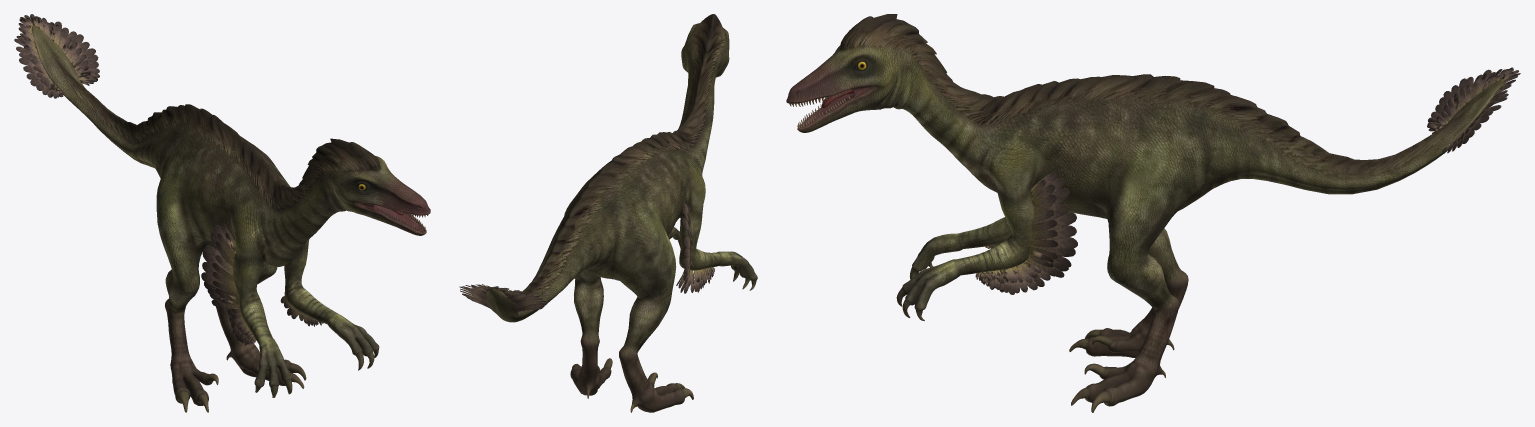
The model's file is troodon.glb.
3 renders of one model, left to right at view 1: azimuth 30°, elevation 25°; view 2: azimuth 150°, elevation 25°; view 3: azimuth 270°, elevation 25°, orthographic. The views are drawn at different scales.
Visible parts, largest first — view 1: Object_5; view 2: Object_5; view 3: Object_5.
Part boxes in pixels (x1,y1,x2,y2): Object_5: (14,14,430,412); Object_5: (459,14,757,412); Object_5: (786,14,1520,412).
Size of the model in its own units: 0.1883 by 0.4619 by 0.8344.
Materials: 1 (1 with a texture image).
